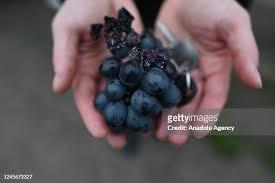Grape Rotten: (90, 6, 199, 134)
